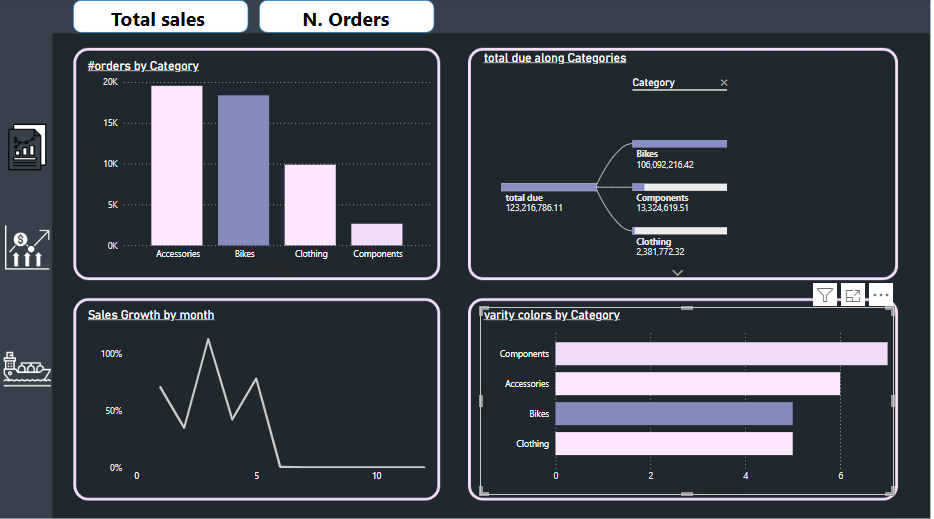

Layout of this report page (visuals, bound fields, positions):
{"tool":"powerbi","page":{"name":"Page 2","canvas":[1280,720],"ordinal":1},"visuals":[{"type":"decompositionTreeVisual","title":"total due along Categories","fields":{"ExplainBy":["vw_DimProducts.Category"],"Analyze":["my measures.total due"]},"box":[660.6,72.9,569.8,353.7],"z":0},{"type":"image","box":[0,165.7,74.8,82.8],"z":1000},{"type":"image","box":[0,304.6,74.8,80.2],"z":2000},{"type":"image","box":[0,470.3,74.8,82.8],"z":3000},{"type":"columnChart","fields":{"Y":["my measures.#orders"],"Category":["vw_DimProducts.Category"]},"box":[115.6,84,483.2,301],"z":4000},{"type":"lineChart","fields":{"Category":["date.month"],"Y":["my measures.Sales Growth"]},"box":[115.6,426.1,483.2,259.8],"z":5000},{"type":"barChart","fields":{"Category":["vw_DimProducts.Category"],"Y":["total customers.varity colors"]},"box":[660.6,426.1,570.3,259.8],"z":6000},{"type":"shape","box":[356.4,4.1,241.7,45.1],"z":8000},{"type":"shape","box":[100.4,4.1,241.7,45.1],"z":9000},{"type":"textbox","box":[114.3,5.3,206,54.5],"z":10000},{"type":"textbox","box":[373.5,5.3,206,54.5],"z":11000}]}

Visuals, with their boxes in screenshot pixels (x1, y1, x2, y2):
"total due along Categories" decompositionTreeVisual: locate(474, 46, 893, 307)
image: locate(0, 115, 43, 176)
image: locate(0, 217, 43, 276)
image: locate(0, 339, 43, 400)
columnChart - my measures.#orders x vw_DimProducts.Category: locate(73, 54, 428, 276)
lineChart - date.month x my measures.Sales Growth: locate(73, 306, 428, 497)
barChart - vw_DimProducts.Category x total customers.varity colors: locate(474, 306, 893, 497)
shape: locate(250, 0, 428, 29)
shape: locate(62, 0, 240, 29)
textbox: locate(72, 0, 223, 37)
textbox: locate(263, 0, 414, 37)
